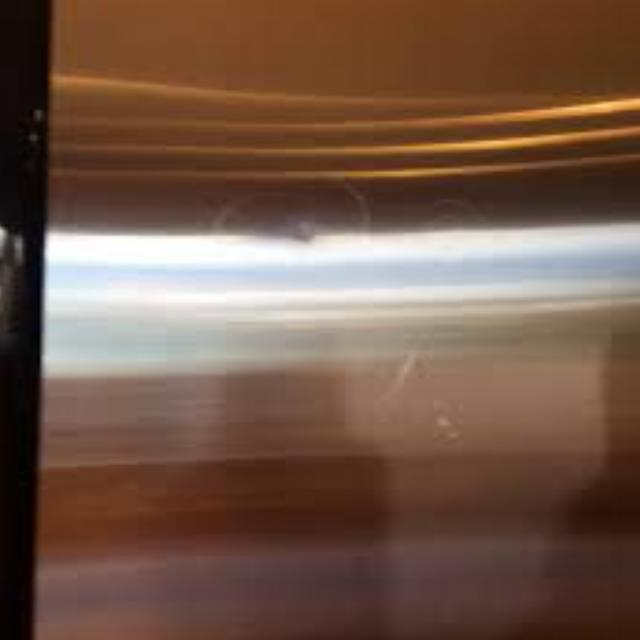dents: (267, 209, 358, 276)
